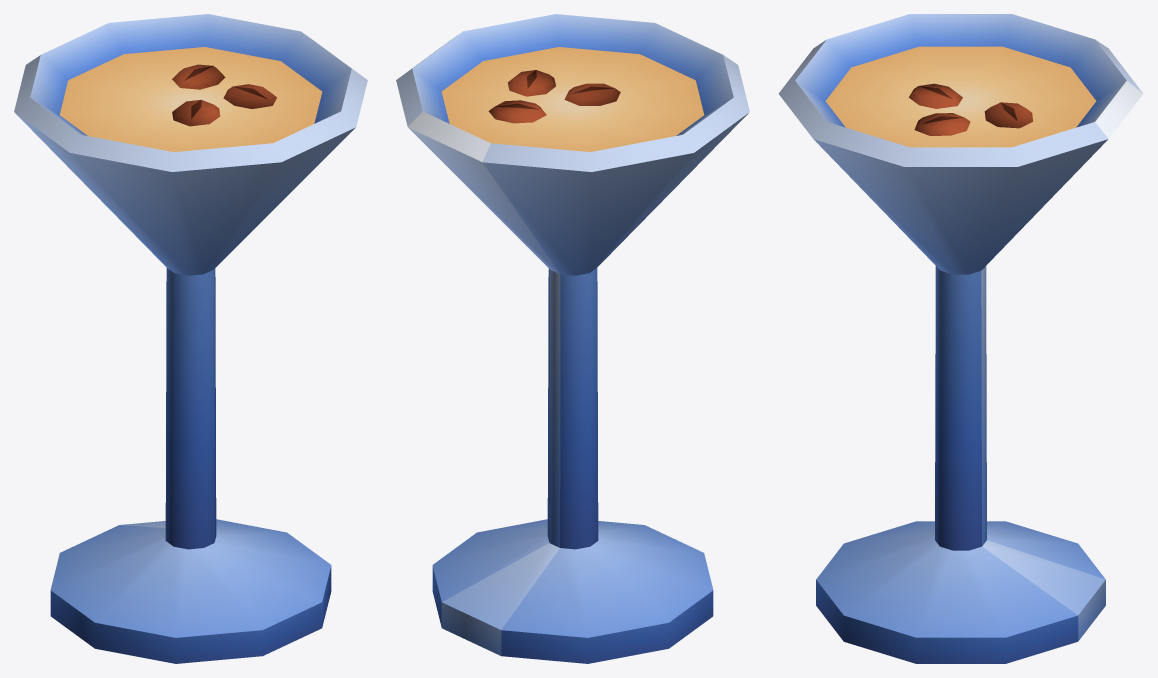
File: m_EspressoMartini01.fbx
3 renders of one model, left to right at view 1: azimuth 30°, elevation 25°; view 2: azimuth 150°, elevation 25°; view 3: azimuth 270°, elevation 25°, orthographic.
Parts seen in each view (by area): view 1: m_EspressoMartini01; view 2: m_EspressoMartini01; view 3: m_EspressoMartini01.
Boxes of the visible parts, bbox=[...] form: m_EspressoMartini01: bbox=[14, 14, 367, 663]; m_EspressoMartini01: bbox=[396, 14, 749, 663]; m_EspressoMartini01: bbox=[778, 14, 1143, 663].
Bounding box in the file's own units: 11.98 × 20 × 12.6.
